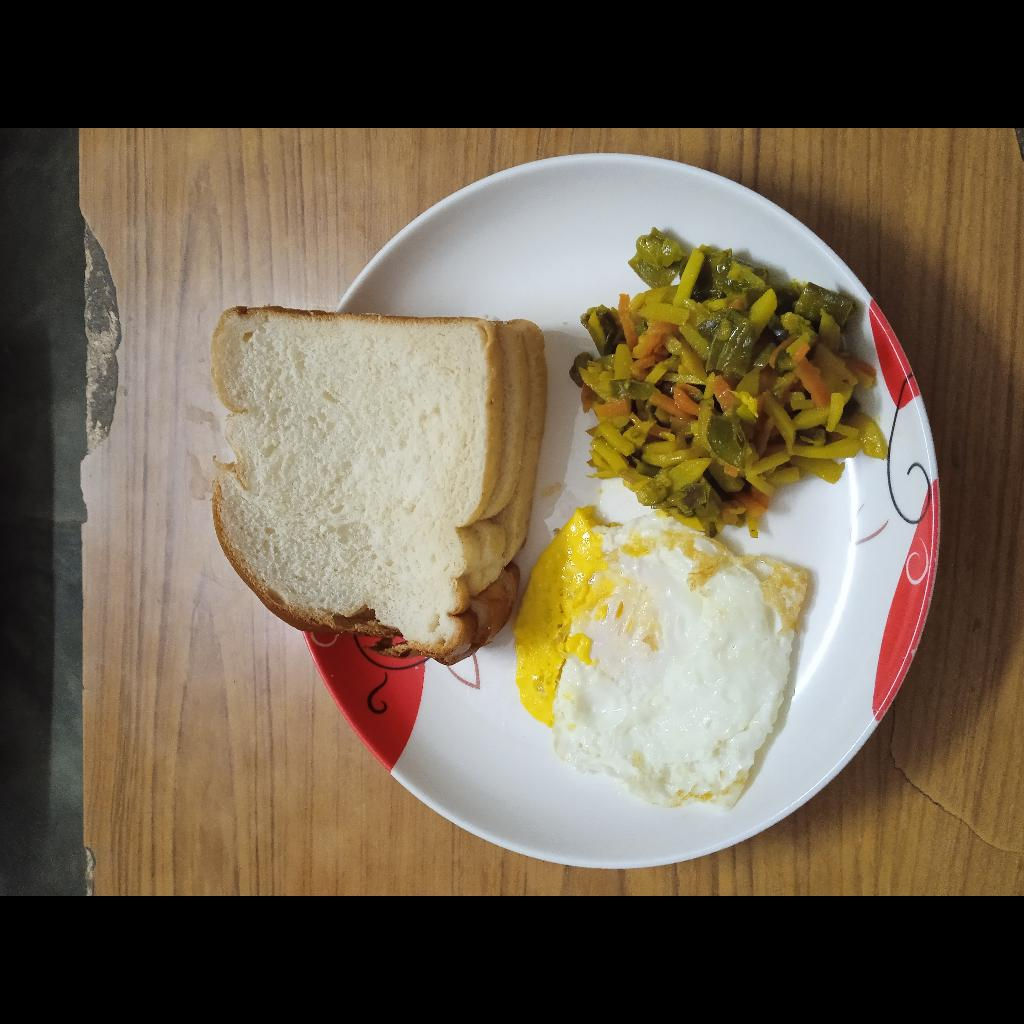bread: (211, 305, 548, 666)
egg-poached: (515, 509, 808, 814)
vegetable: (568, 227, 887, 538)
